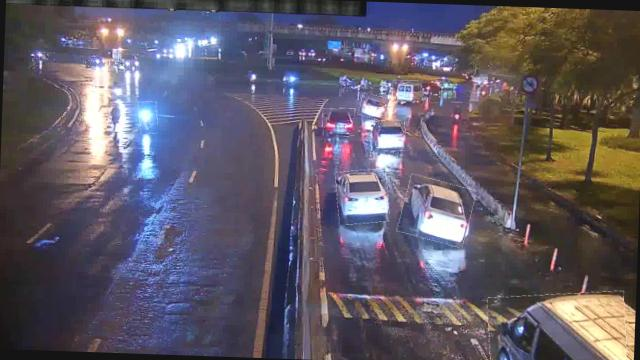Bike: (138, 101, 158, 135), (108, 102, 124, 132), (450, 102, 463, 127)
Bus: (486, 289, 628, 360), (392, 80, 420, 102)
Car: (400, 176, 474, 246), (335, 169, 390, 227), (370, 120, 406, 152), (322, 108, 356, 137), (359, 94, 390, 120)
